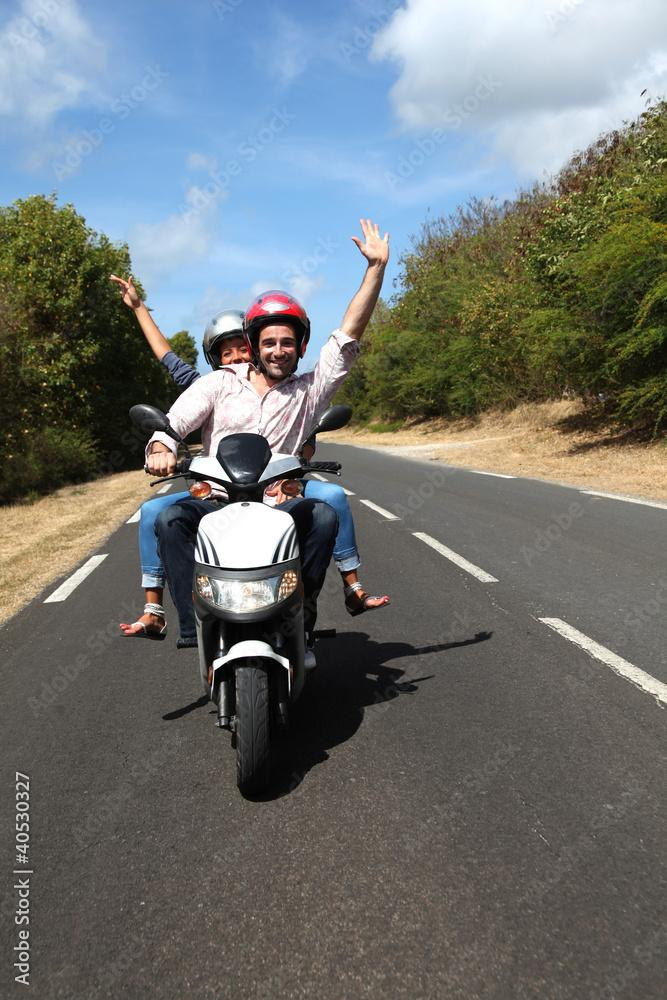helmet: (241, 289, 312, 381), (201, 308, 264, 388)
